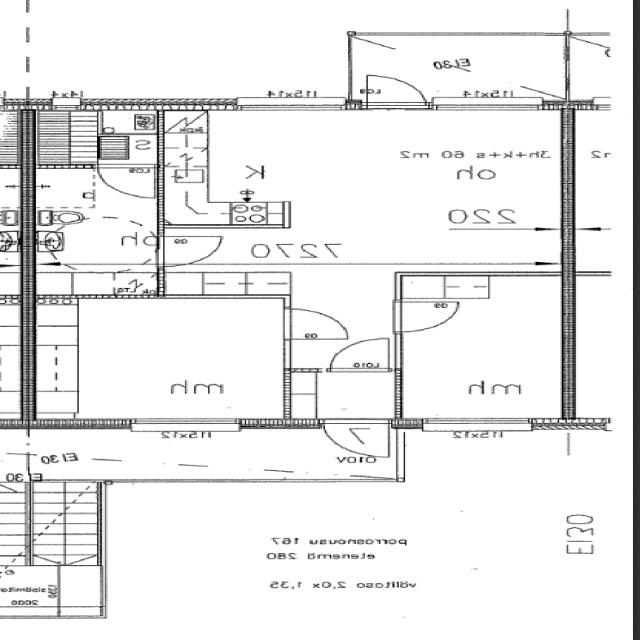door: (325, 418, 387, 462), (366, 67, 428, 110), (394, 301, 462, 332), (158, 236, 224, 267), (330, 338, 390, 372), (98, 165, 155, 198), (285, 310, 348, 338)
